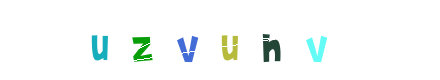H: (231, 0, 311, 80)
U: (102, 0, 182, 80), (183, 0, 263, 80)
V: (180, 0, 260, 80), (232, 0, 312, 80)
Z: (104, 0, 184, 80)
